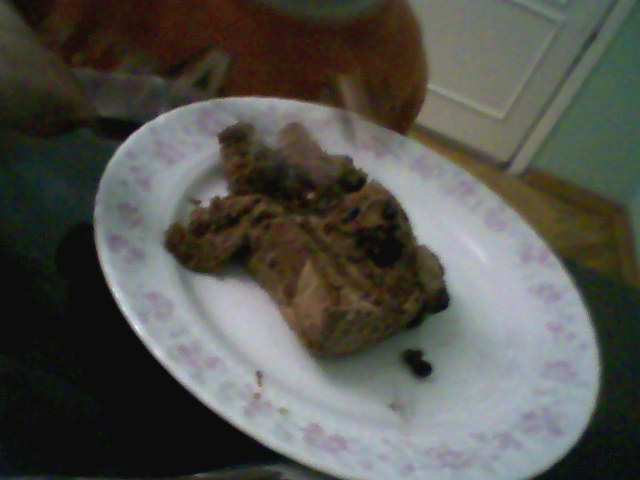copdegil: (168, 114, 459, 386)
